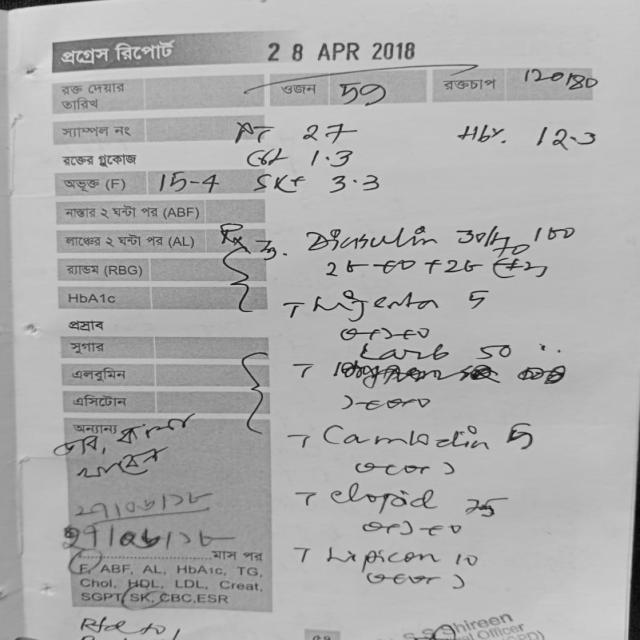Camlodin: (317, 424, 502, 463)
Clopid: (319, 482, 448, 518), (354, 341, 460, 367)
Diasulin: (306, 223, 449, 253)
Lijenta: (303, 283, 445, 322)
Lipicon: (323, 537, 447, 567)
